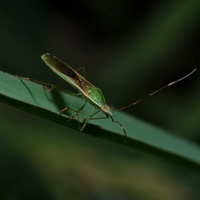insect: (41, 53, 126, 136)
